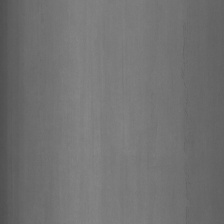silk_spot: (177, 24, 204, 213)
